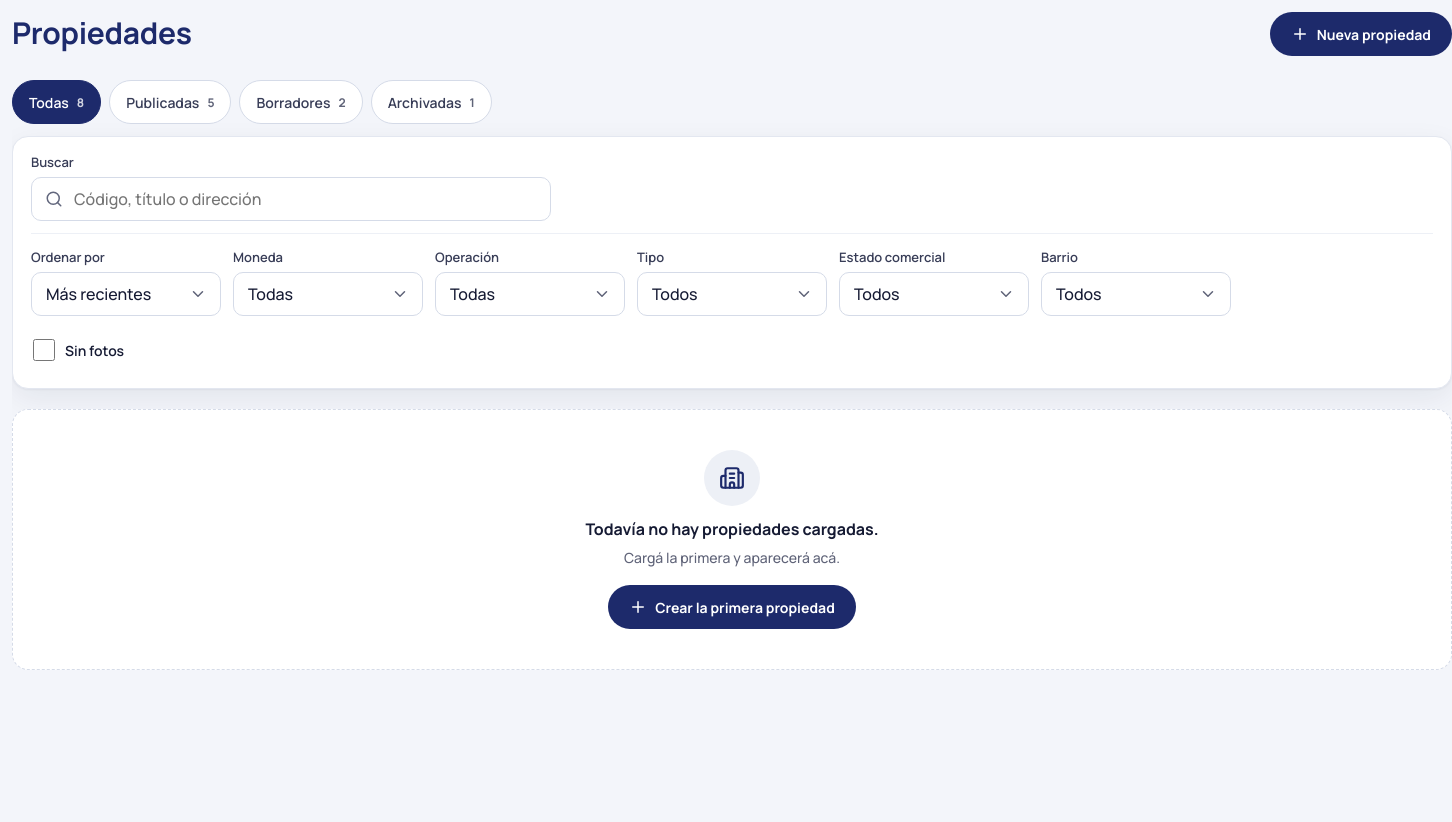
AdminPropertiesPage › passes the fetched neighborhoods into the filters' barrio select
The image size is (1452, 822).
Step 1. Click the dropdown named "Barrio" → (1136, 294), box x1=1041 y1=272 x2=1231 y2=316
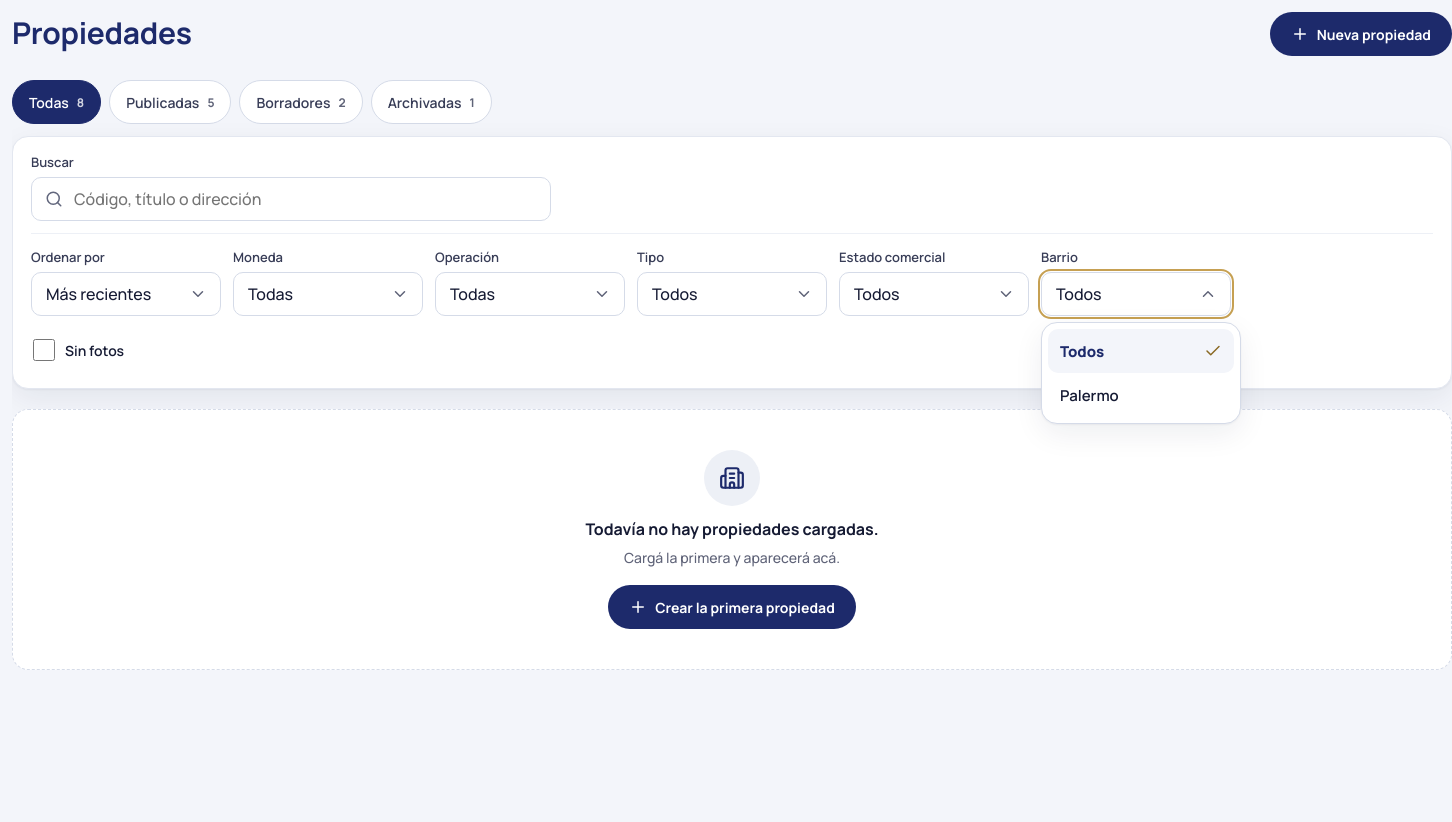
expect the option "Palermo" is shown: met, box x1=1060 y1=384 x2=1119 y2=406
